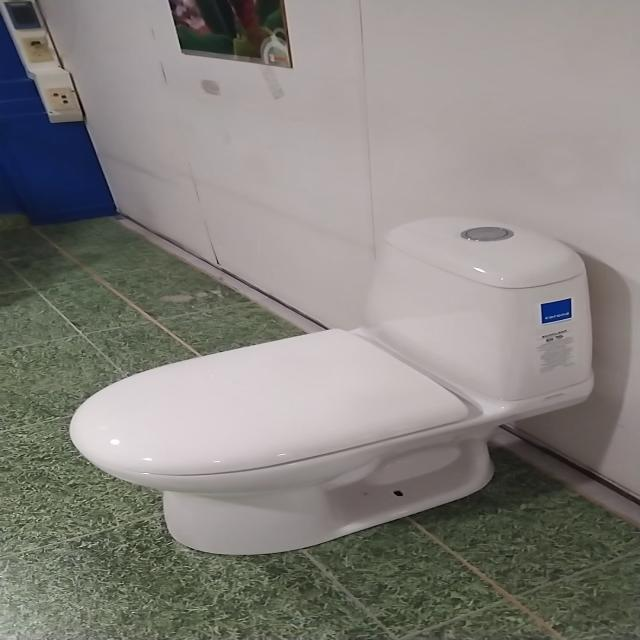toilet: (65, 213, 608, 560)
